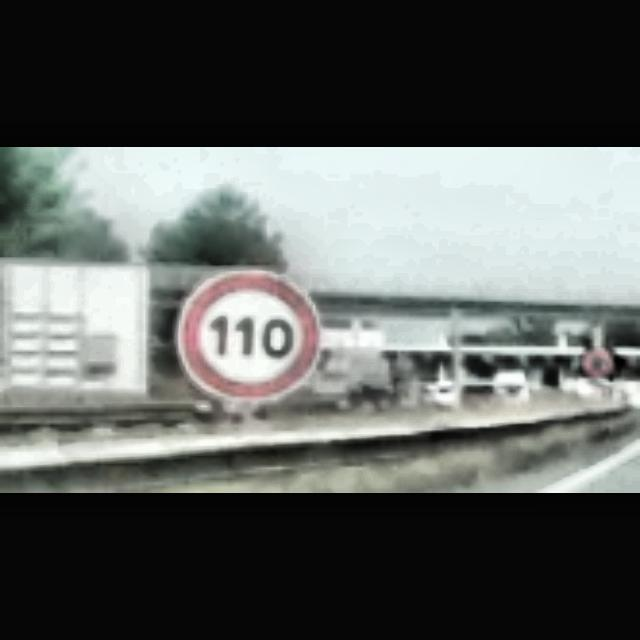speed_110: (175, 270, 322, 406)
